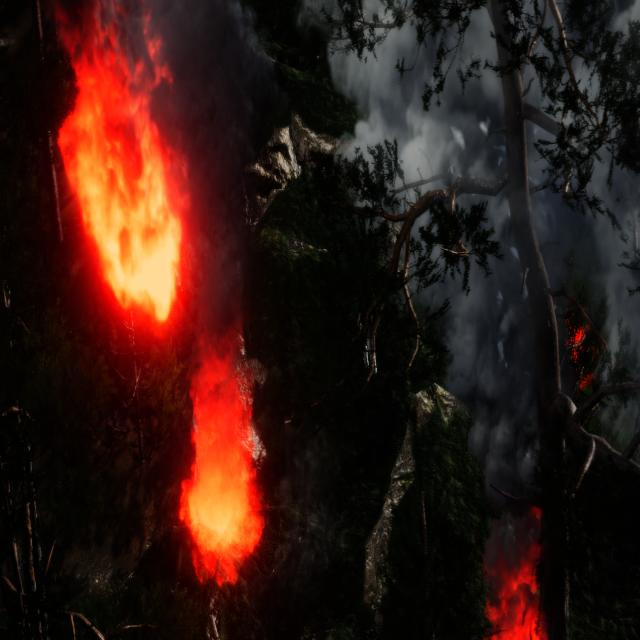Human: (355, 237, 379, 384)
